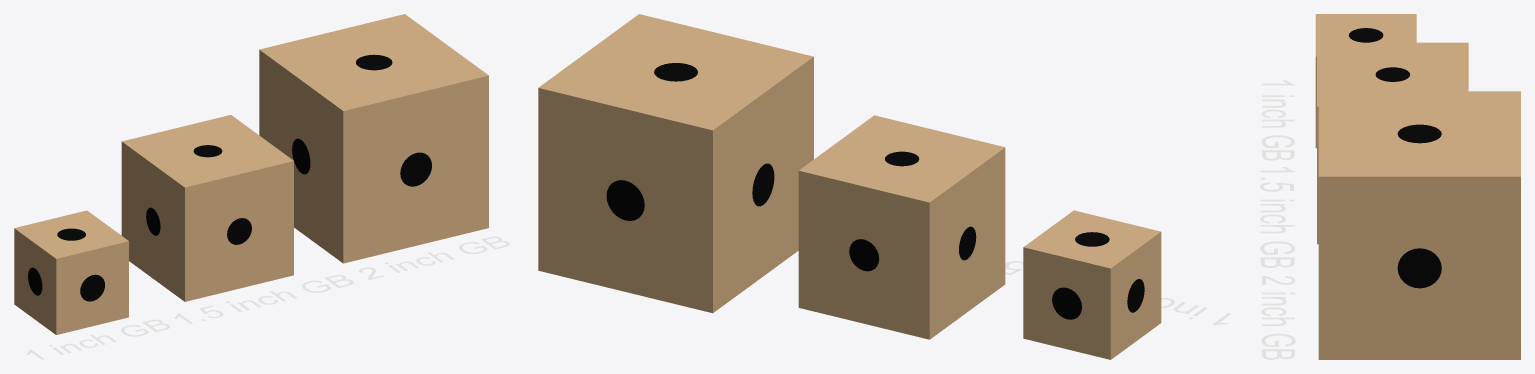
Rendered from gridbeam_set-imperial.dae.
3 renders of one model, left to right at view 1: azimuth 30°, elevation 25°; view 2: azimuth 150°, elevation 25°; view 3: azimuth 270°, elevation 25°, orthographic. The views are drawn at different scales.
Parts seen in each view (by area): view 1: _2inch_GB_segment (×4), _1.5inch_GB_segment (×2), _1inch_GB_segment (×2); view 2: _2inch_GB_segment (×4), _1.5inch_GB_segment (×2), _1inch_GB_segment (×2); view 3: _2inch_GB_segment (×3), _1.5inch_GB_segment (×2), _1inch_GB_segment (×2), _1.5_inch_GB_1 (×2), _2_inch_GB_1, _1_inch_GB_2.
Boxes of the visible parts, x1,y1,x2,y2 form: _2inch_GB_segment (×4): (259, 14, 488, 263); _1.5inch_GB_segment (×2): (121, 115, 293, 301); _1inch_GB_segment (×2): (14, 210, 128, 334); _2inch_GB_segment (×4): (538, 14, 813, 313); _1.5inch_GB_segment (×2): (798, 115, 1005, 339); _1inch_GB_segment (×2): (1023, 210, 1161, 359); _2inch_GB_segment (×3): (1318, 91, 1520, 359); _1.5inch_GB_segment (×2): (1317, 42, 1468, 244); _1inch_GB_segment (×2): (1315, 14, 1416, 148); _1.5_inch_GB_1 (×2): (1260, 241, 1294, 267); _2_inch_GB_1: (1262, 349, 1294, 359); _1_inch_GB_2: (1262, 150, 1294, 160).
Size of the model in its own units: 6.54 by 2.58 by 2.
